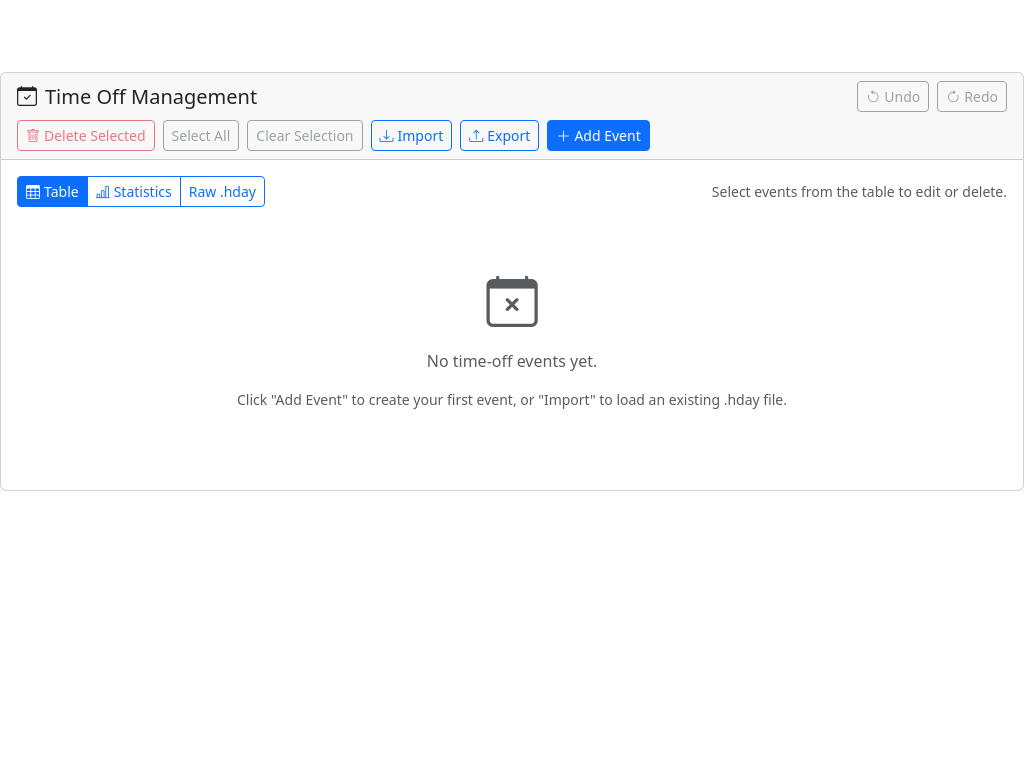
TimeOffView › Raw Content Editor › should allow applying raw .hday content
Click the button "Raw .hday" at x=222, y=192, box x1=180 y1=176 x2=265 y2=207
(page scrolled)
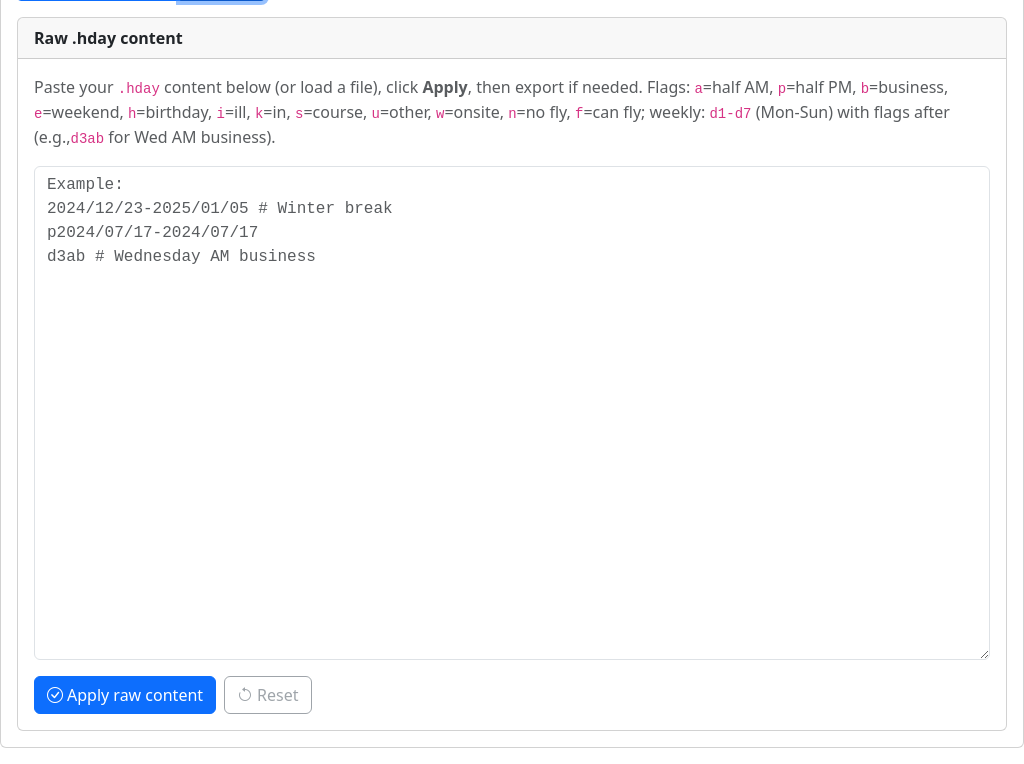
Type "2025/01/15 # Raw vacation" into the text box named "Raw .hday content" at x=512, y=413, box x1=34 y1=166 x2=990 y2=660
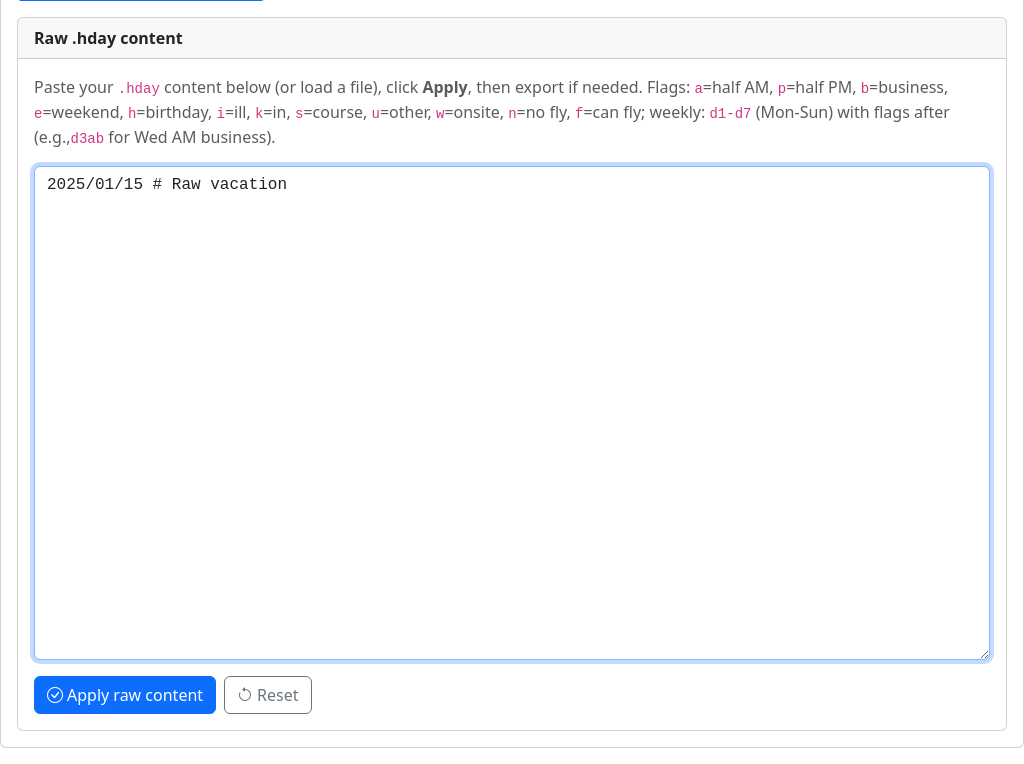
Click the button "Apply raw content" at x=125, y=695, box x1=34 y1=676 x2=216 y2=714
(page scrolled)
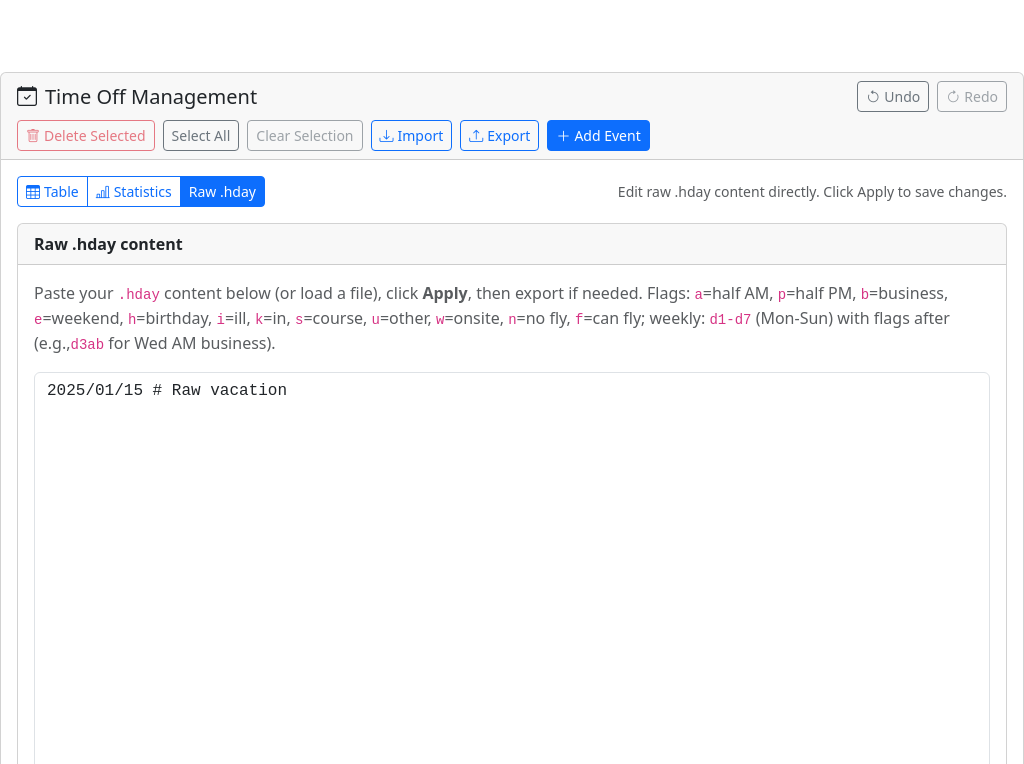
Note: Switch to table view to verify event was created
Click the button "Table" at x=52, y=192, box x1=17 y1=176 x2=88 y2=207
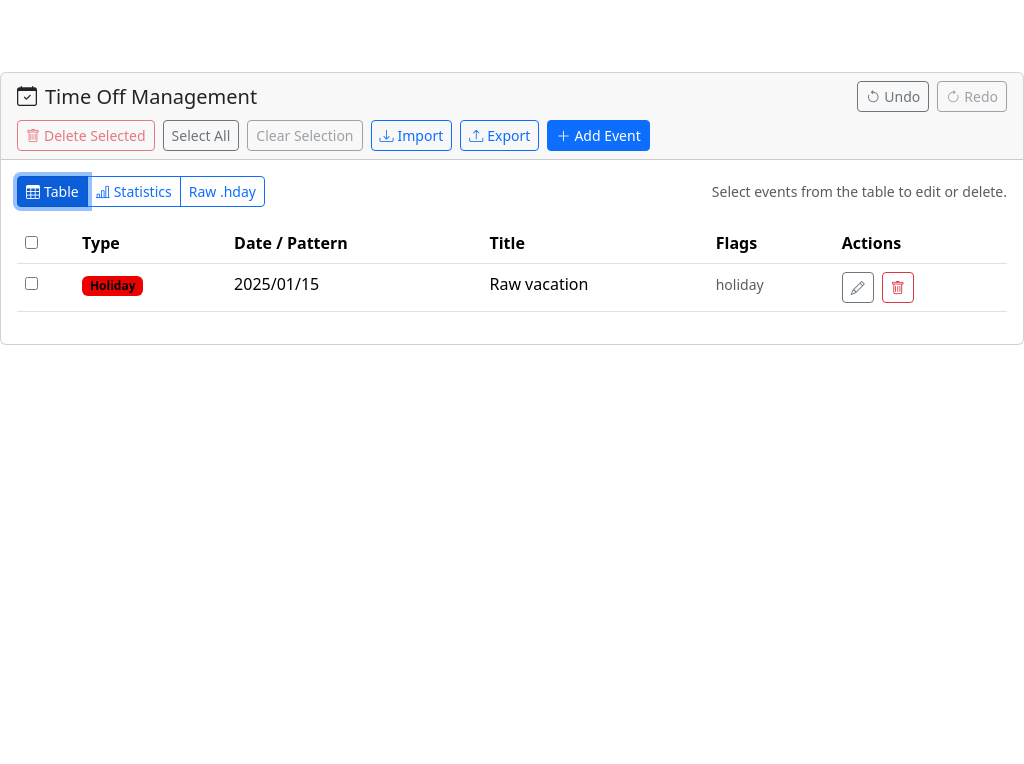
Check: the text "Raw vacation" is shown, box x1=482 y1=264 x2=708 y2=312
